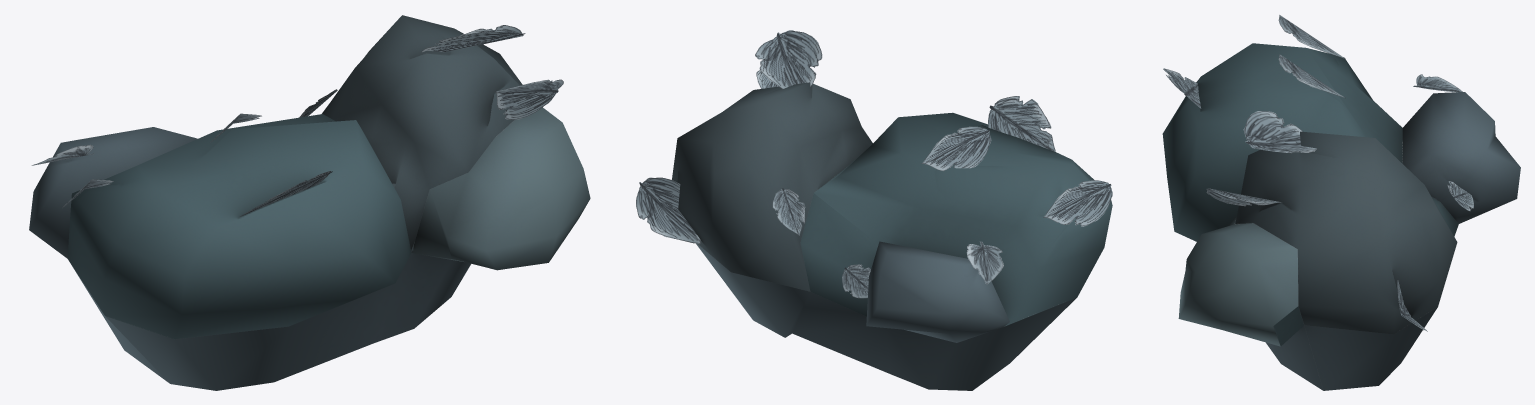
File: bush.FBX
3 renders of one model, left to right at view 1: azimuth 30°, elevation 25°; view 2: azimuth 150°, elevation 25°; view 3: azimuth 270°, elevation 25°, orthographic. The views are drawn at different scales.
Visible parts, largest first — view 1: Bush; view 2: Bush; view 3: Bush.
Part boxes in pixels (<box>): Bush: <box>29,15,590,390</box>; Bush: <box>636,30,1112,390</box>; Bush: <box>1162,15,1520,390</box>.
Size of the model in its own units: 3.06 by 1.75 by 1.97.
